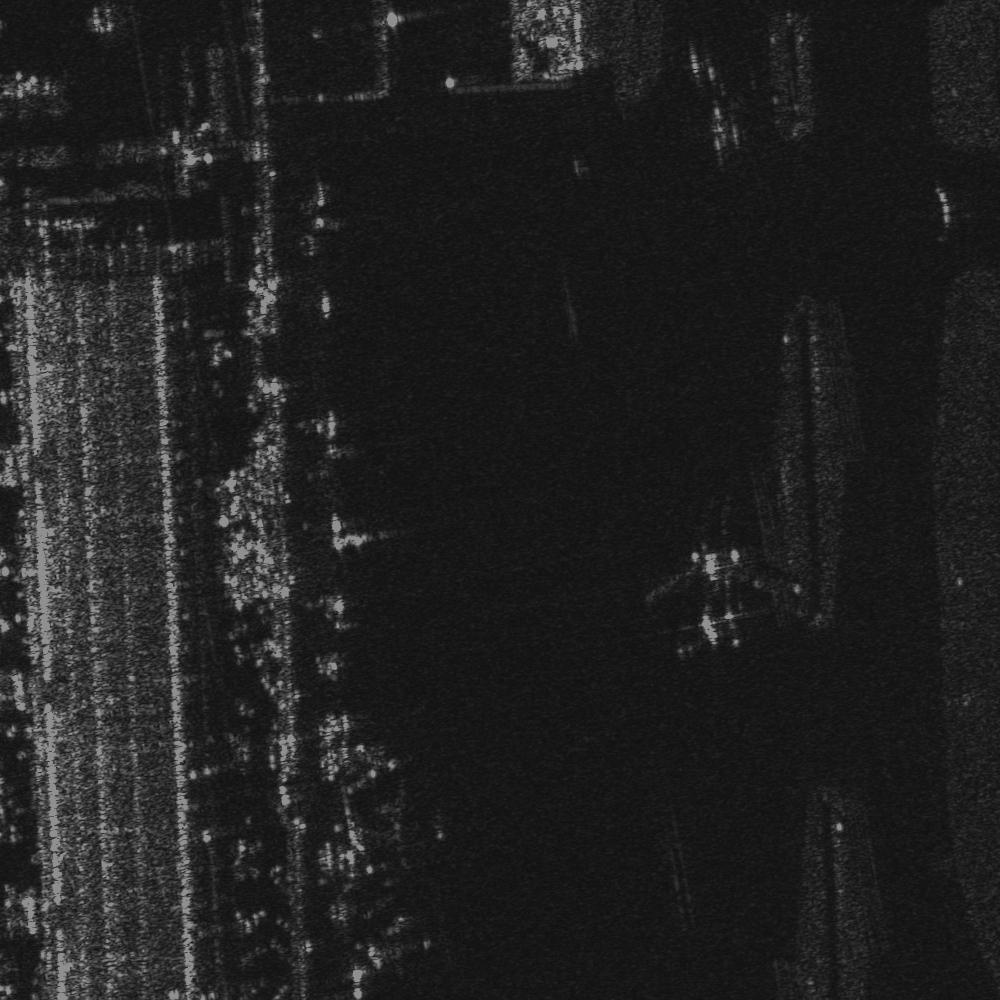A220: (345, 786, 452, 873)
other: (637, 524, 773, 658), (347, 905, 439, 973)
